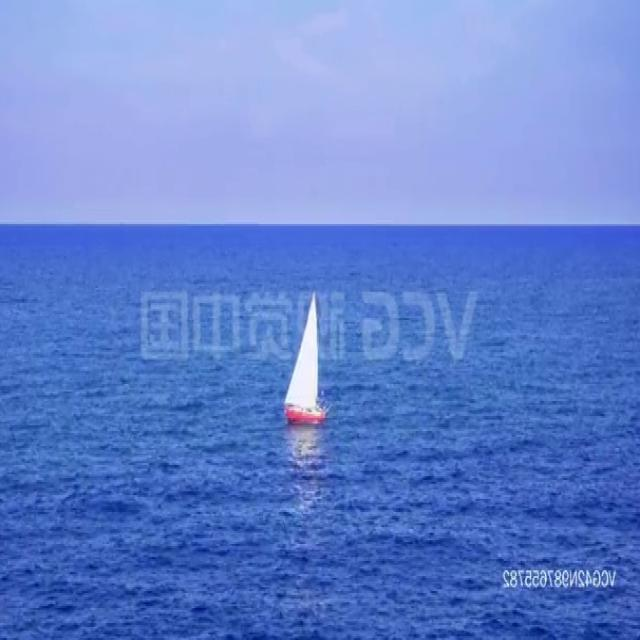sailboat: (284, 290, 327, 424)
